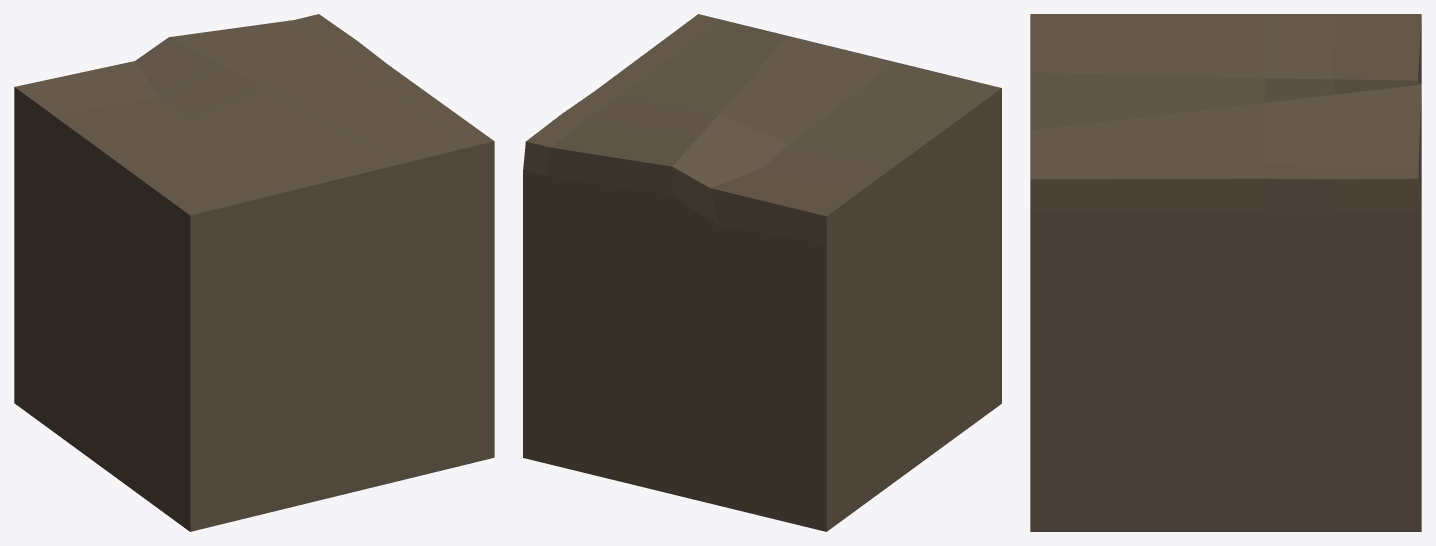
Rendered from ground_002_export_test_1_cube.gltf.
3 renders of one model, left to right at view 1: azimuth 30°, elevation 25°; view 2: azimuth 150°, elevation 25°; view 3: azimuth 270°, elevation 25°, orthographic. The views are drawn at different scales.
Visible parts, largest first — view 1: ground_stone_.001; view 2: ground_stone_.001; view 3: ground_stone_.001.
Part boxes in pixels (box(x1,y1,x2,y2)): ground_stone_.001: box(14, 14, 494, 531); ground_stone_.001: box(523, 14, 1001, 531); ground_stone_.001: box(1030, 14, 1421, 531).
Size of the model in its own units: 2 by 2.06 by 2.
Materials: 1 (1 with a texture image).
